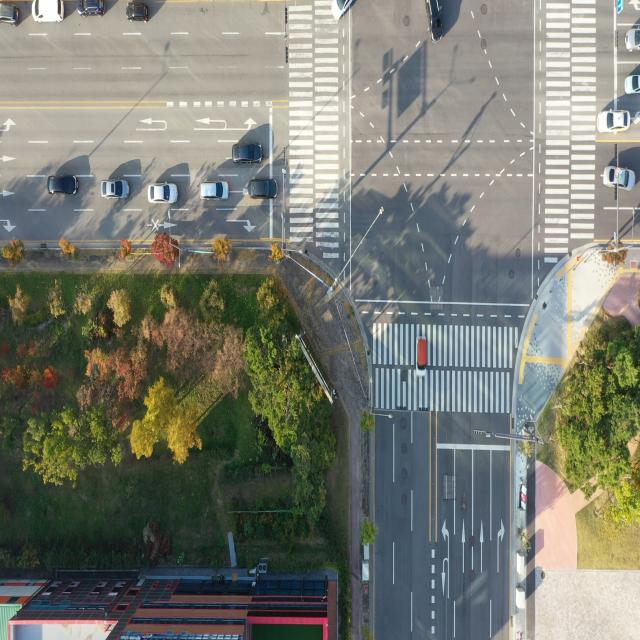car: (595, 108, 630, 138), (603, 162, 637, 192), (233, 142, 263, 166), (424, 0, 442, 40), (29, 0, 64, 20), (50, 175, 78, 198), (414, 338, 430, 378), (150, 183, 178, 205), (249, 178, 277, 200), (74, 0, 104, 20), (200, 180, 228, 201), (102, 179, 130, 199), (327, 0, 352, 22), (623, 21, 640, 52), (127, 1, 151, 22), (0, 3, 20, 28), (624, 68, 640, 98)
